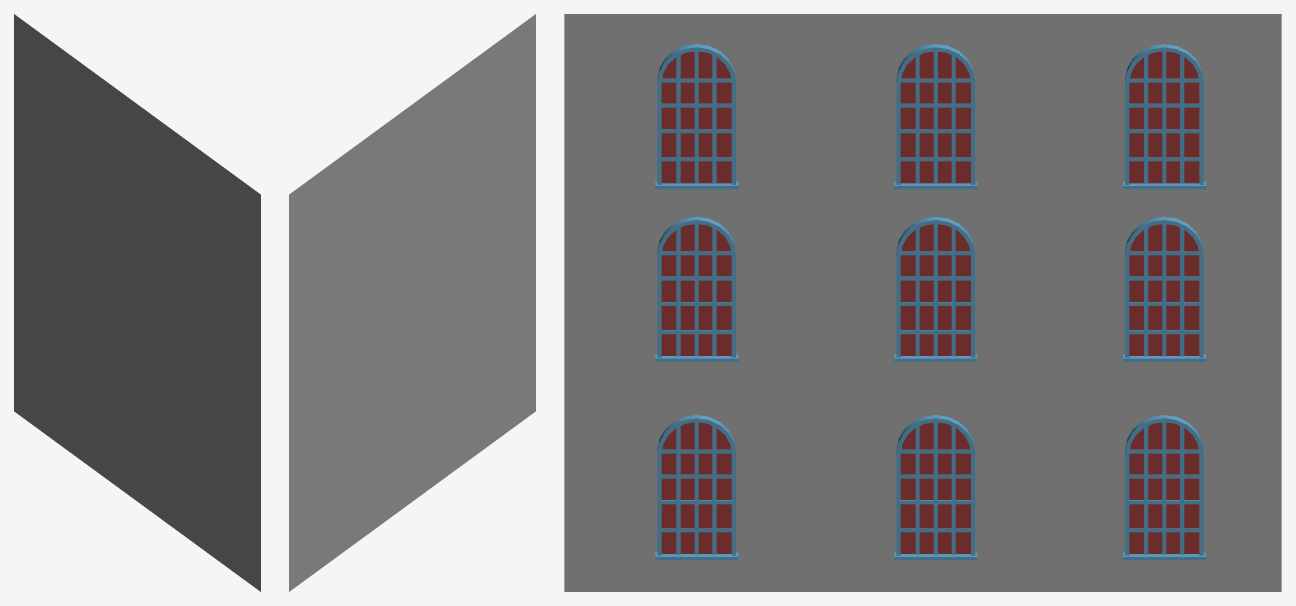
File: Prop_Wallext_8x9_9Windows_01.fbx
The picture shows the model from 3 angles, left to right: view 1: azimuth 30°, elevation 25°; view 2: azimuth 150°, elevation 25°; view 3: azimuth 270°, elevation 25°; orthographic projection. The views are drawn at different scales.
Parts seen in each view (by area): view 1: Prop_Wallext_8x9_9Windows_01; view 2: Prop_Wallext_8x9_9Windows_01; view 3: Prop_Wallext_8x9_9Windows_01.
Boxes of the visible parts, bbox=[...] form: Prop_Wallext_8x9_9Windows_01: bbox=[14, 14, 260, 591]; Prop_Wallext_8x9_9Windows_01: bbox=[289, 14, 535, 591]; Prop_Wallext_8x9_9Windows_01: bbox=[564, 14, 1281, 591].
Size of the model in its own units: 0.1429 by 8 by 9.
